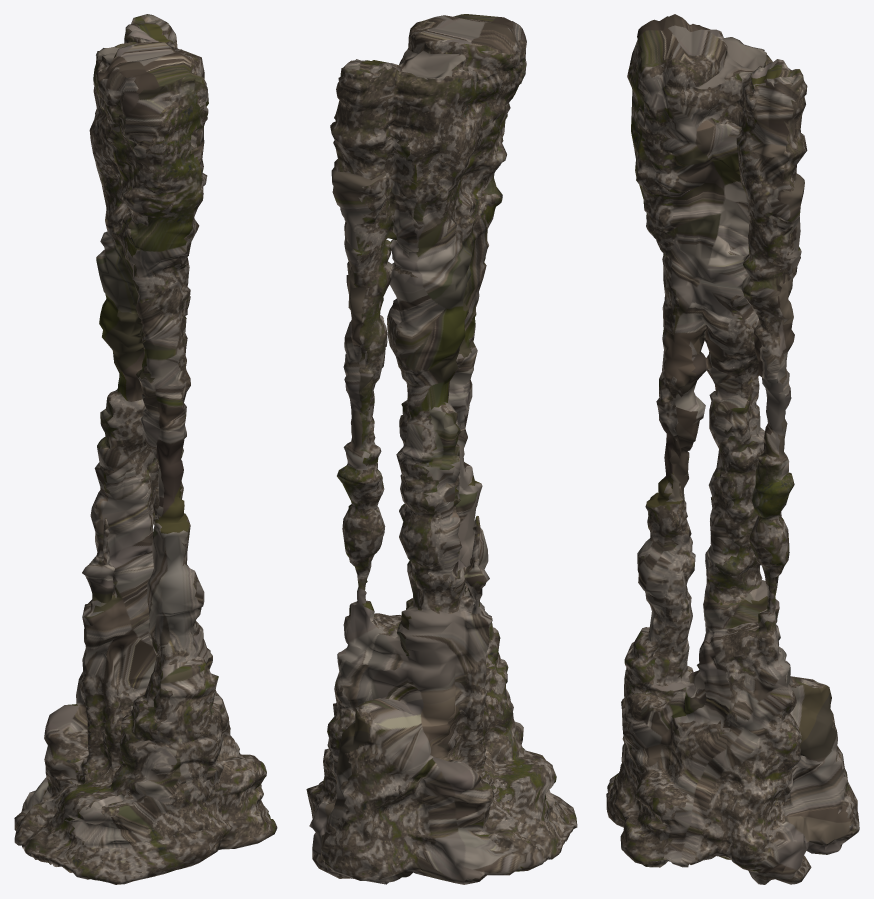
The model's file is SM_Stalacite_E.fbx.
3 views of the same model, side by side, from view 1: azimuth 30°, elevation 25°; view 2: azimuth 150°, elevation 25°; view 3: azimuth 270°, elevation 25° (orthographic).
Parts seen in each view (by area): view 1: SM_Stalacite_E_LOD0; view 2: SM_Stalacite_E_LOD0; view 3: SM_Stalacite_E_LOD0.
Boxes of the visible parts, bbox=[...] form: SM_Stalacite_E_LOD0: bbox=[14, 14, 277, 884]; SM_Stalacite_E_LOD0: bbox=[306, 14, 577, 884]; SM_Stalacite_E_LOD0: bbox=[606, 14, 859, 884].
Bounding box in the file's own units: 748 × 722 × 2552.
